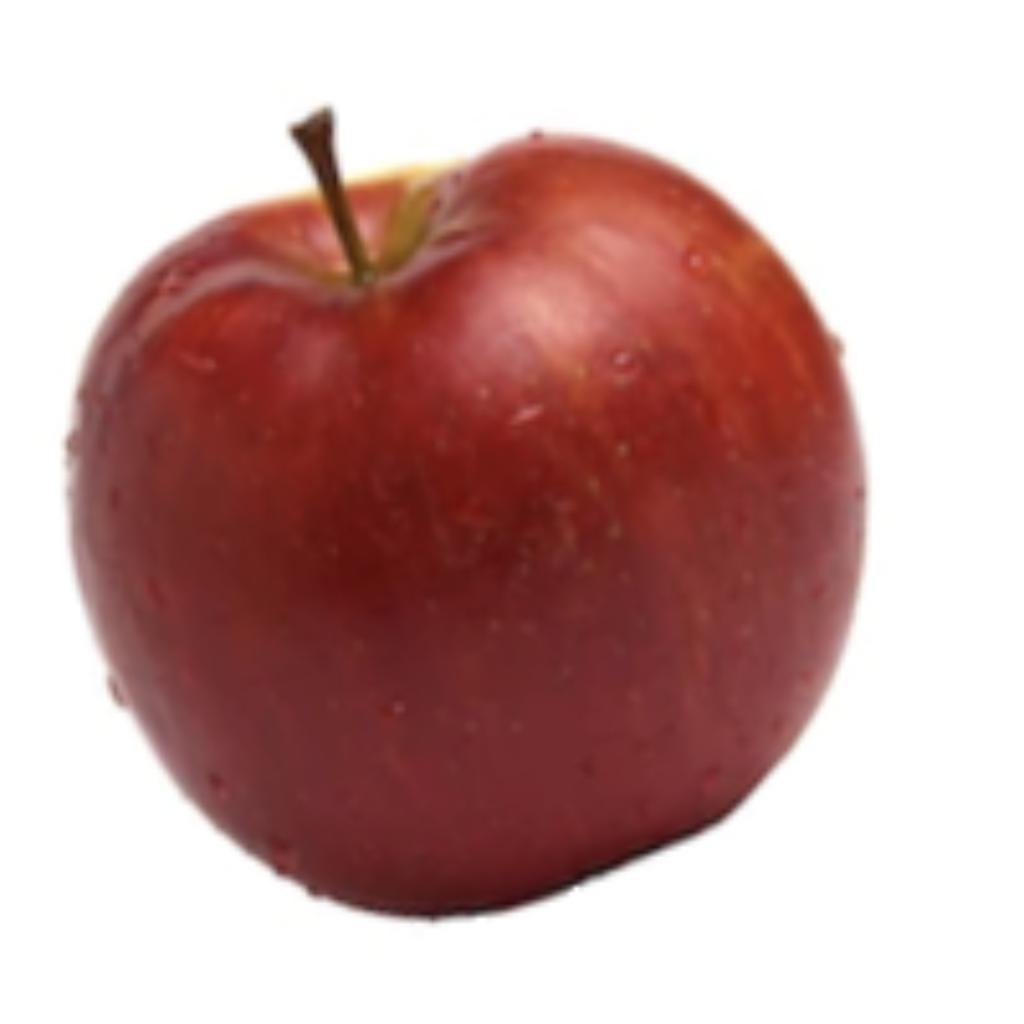apple: (56, 97, 870, 927)
